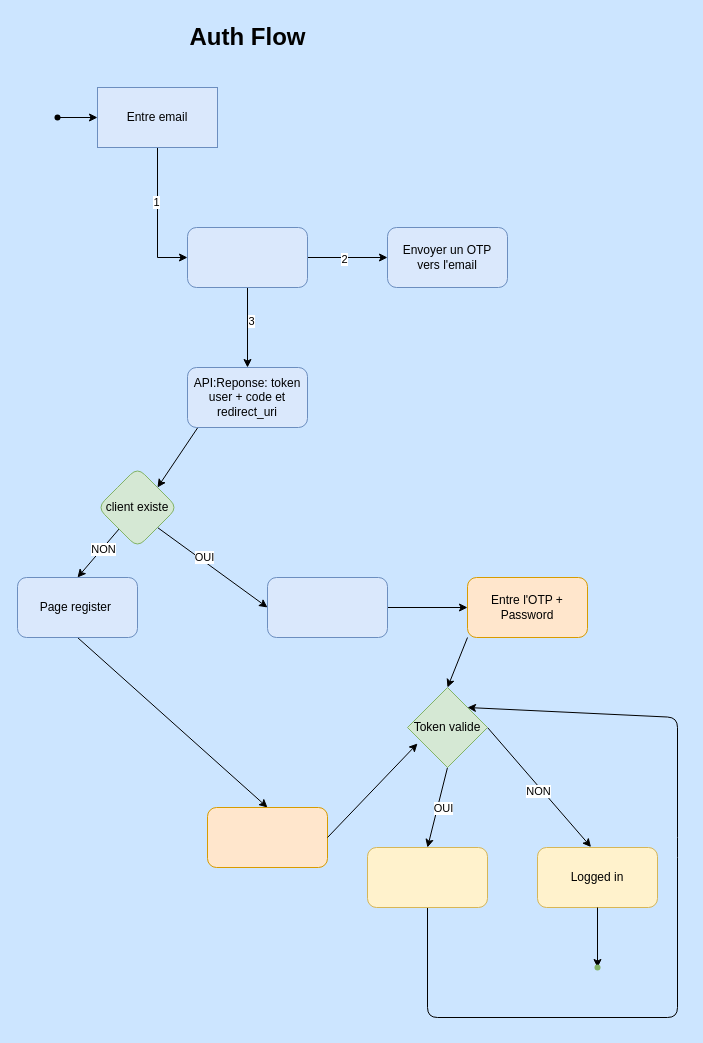
Image size: 703x1043. Some labels were removed from this diagram. Each missing label, with the centre of its shape:
Entre l'OTP + Password + Info: the point at 267,837
Lookup email: the point at 247,257
Page login: the point at 327,607
Renvoyer le code: the point at 427,877
